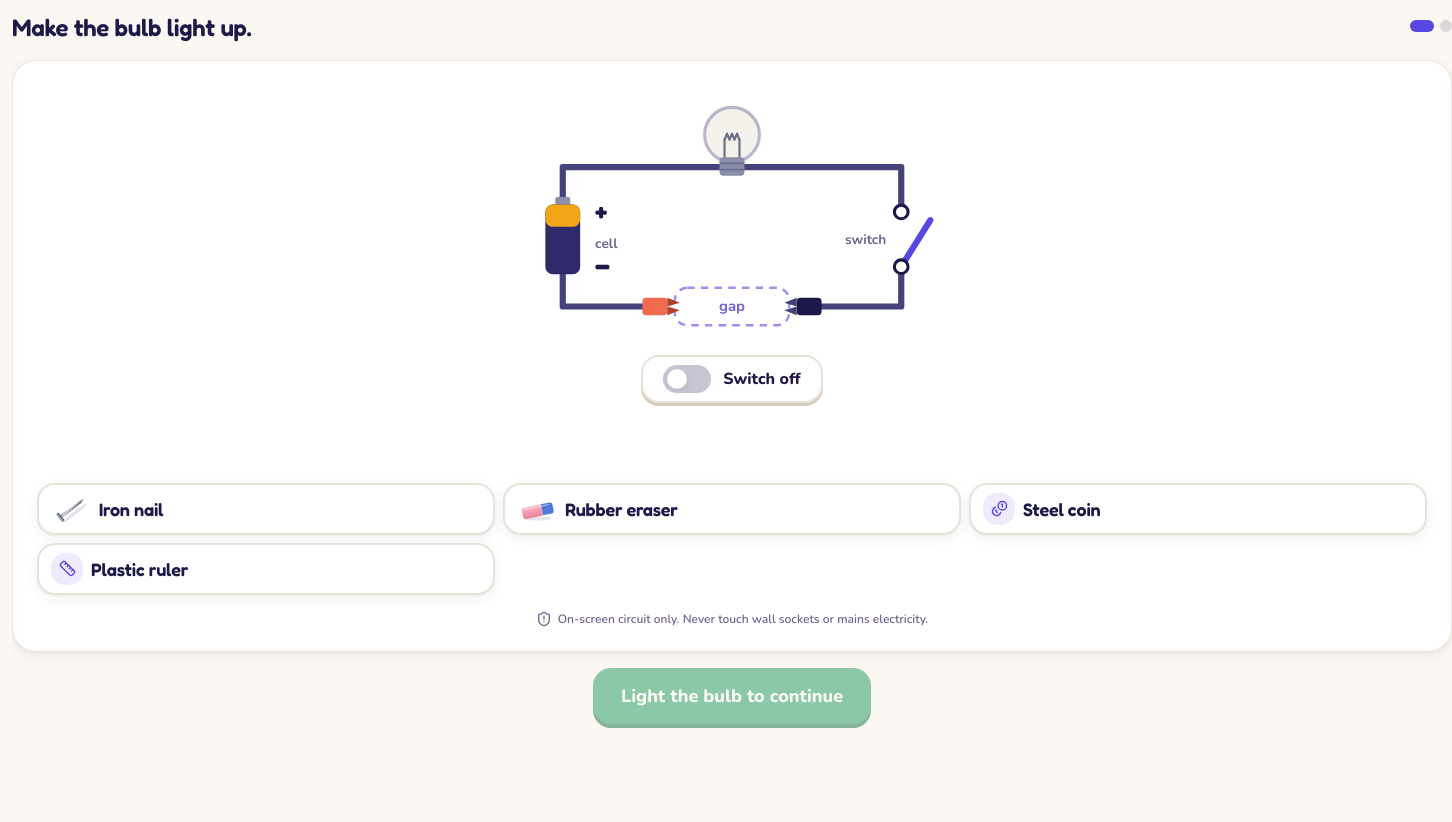
Test case: Circuit Lab (played through the UI) › shows one task: the circuit, the switch, the objects, a safety line and one main button
expect the heading named "Round 1 of 2: Make the bulb light up." is shown: met, box [12,12,252,44]
expect the number of list items is 2: met, box [1410,20,1434,32]; [1440,20,1451,32]
Click the button "Light the bulb to continue" at coordinates (732, 696), box [593,668,871,724]
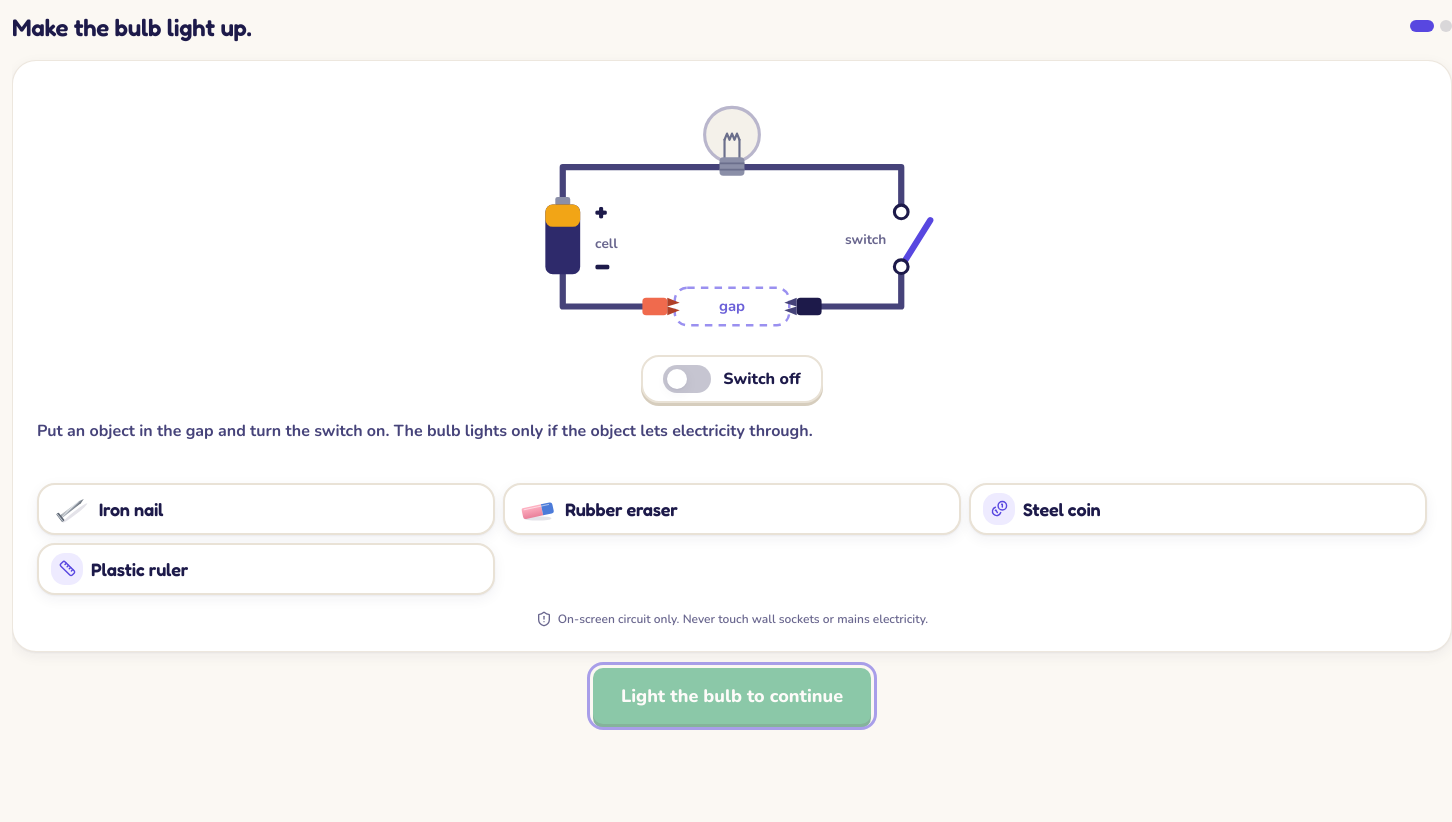
expect the message shows "Put an object in the gap and turn the switch on": met, box [37,420,813,442]
